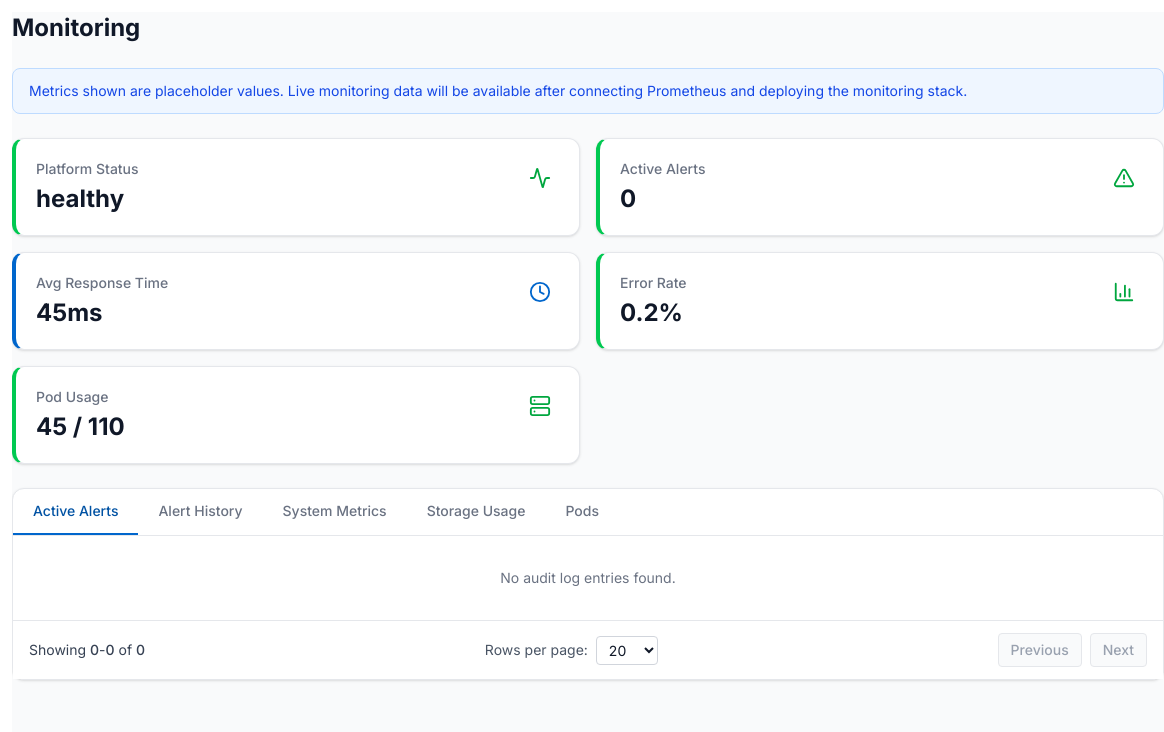
Test: Monitoring Pods tab › filters pods by classification
Click the button with test id "tab-pods" at (582, 512), box [545, 489, 619, 535]
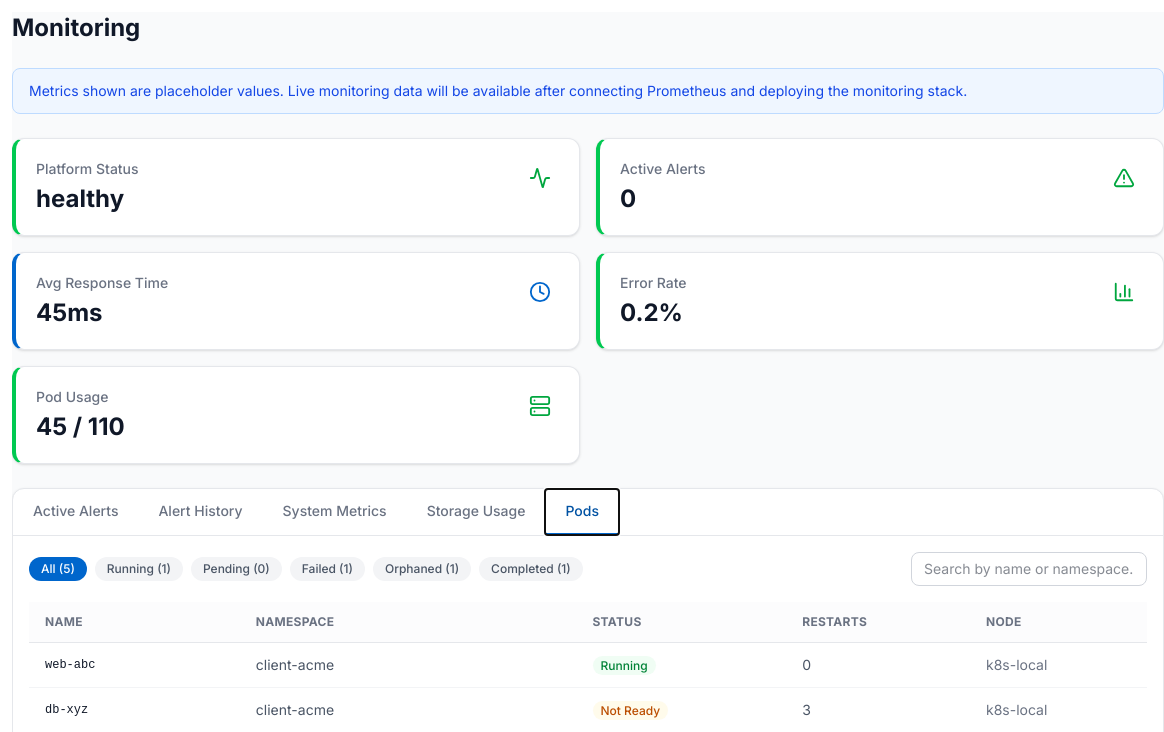
Click the button with test id "pod-filter-orphaned" at (422, 569), box [373, 557, 471, 581]
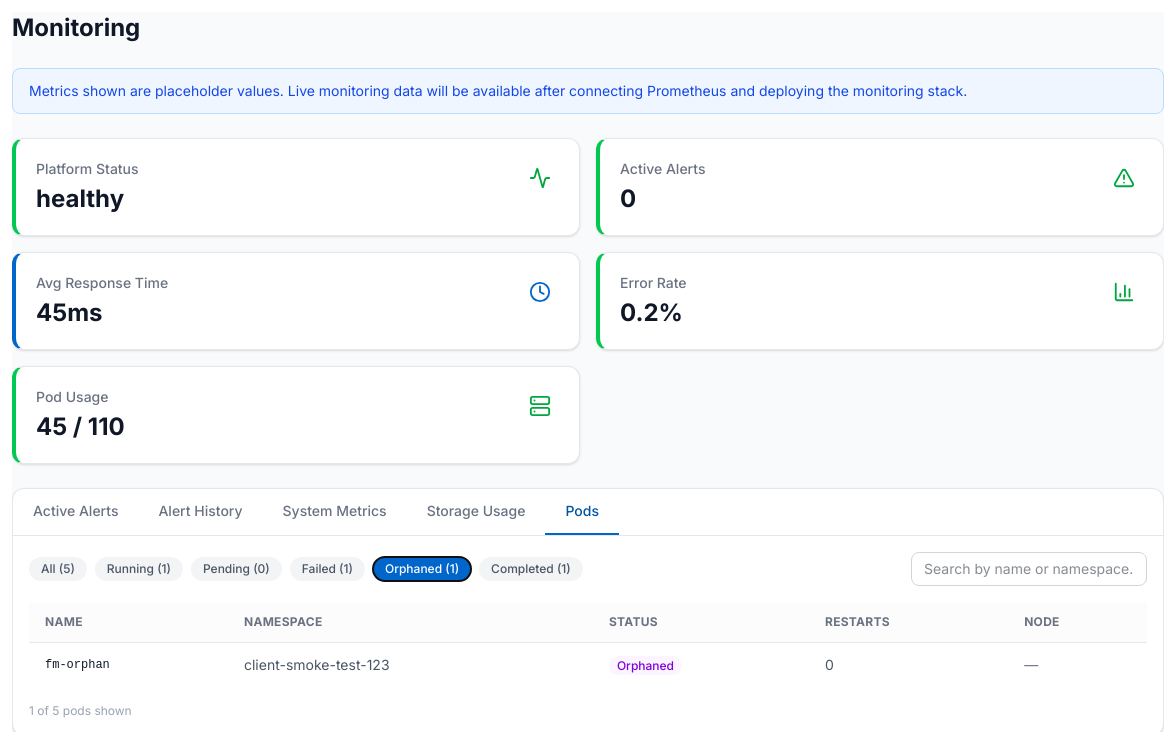
Expected: the text "fm-orphan" is shown, [29, 642, 228, 687]
Expected: the text "web-abc" is gone
Expected: the text with test id "pods-count" shows "1 of 5", [29, 703, 132, 718]
